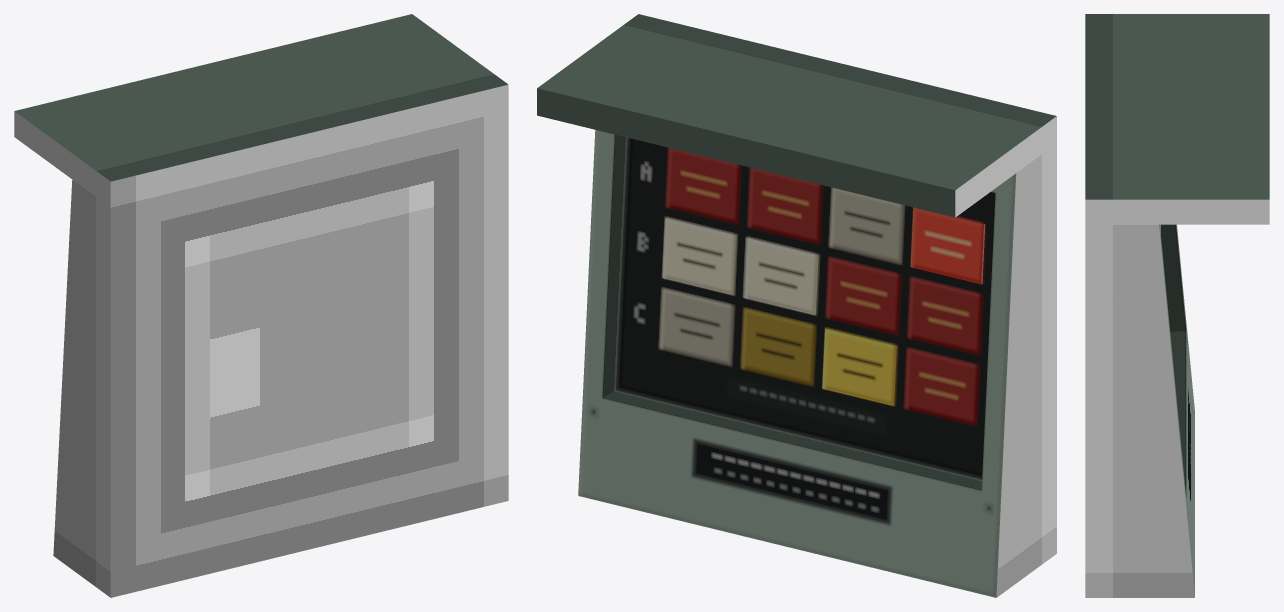
Rendered from header_canopy.obj.
3 views of the same model, side by side, from view 1: azimuth 30°, elevation 25°; view 2: azimuth 150°, elevation 25°; view 3: azimuth 270°, elevation 25° (orthographic). The views are drawn at different scales.
Bounding box in the file's own units: 1 × 1 × 0.42.
